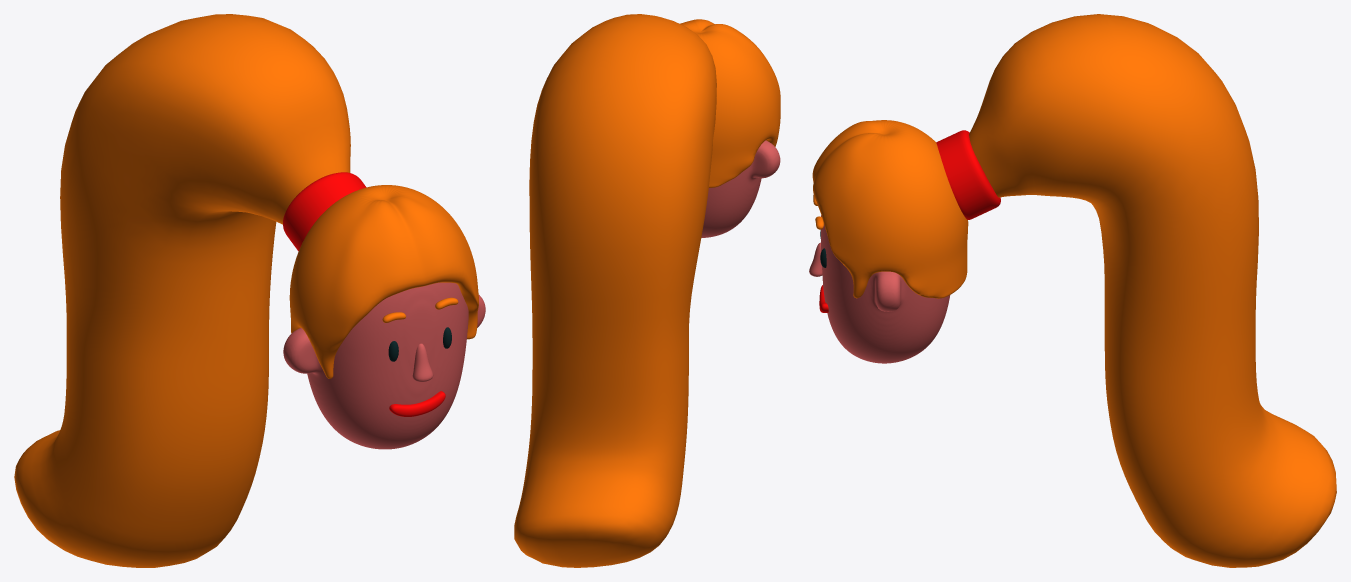
File: batsheva.fbx
3 renders of one model, left to right at view 1: azimuth 30°, elevation 25°; view 2: azimuth 150°, elevation 25°; view 3: azimuth 270°, elevation 25°, orthographic. The views are drawn at different scales.
Visible parts, largest first — view 1: Sphere, Volume_Mesher, Tube, Cube_2; view 2: Sphere, Volume_Mesher; view 3: Sphere, Volume_Mesher, Tube.
Boxes of the visible parts, x1,y1,x2,y2 form: Sphere: [14, 14, 478, 567]; Volume_Mesher: [283, 282, 485, 449]; Tube: [283, 172, 366, 251]; Cube_2: [389, 391, 445, 416]; Sphere: [514, 14, 780, 567]; Volume_Mesher: [701, 140, 780, 237]; Sphere: [812, 14, 1336, 567]; Volume_Mesher: [821, 215, 950, 363]; Tube: [936, 130, 1000, 219].
Size of the model in its own units: 243 by 535 by 478.
